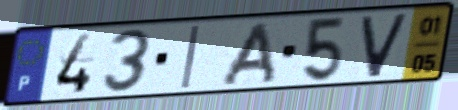3: (100, 27, 156, 95)
4: (51, 32, 94, 96)
5: (299, 14, 346, 84)
A: (217, 20, 279, 88)
I: (178, 23, 203, 91)
V: (359, 11, 412, 80)
